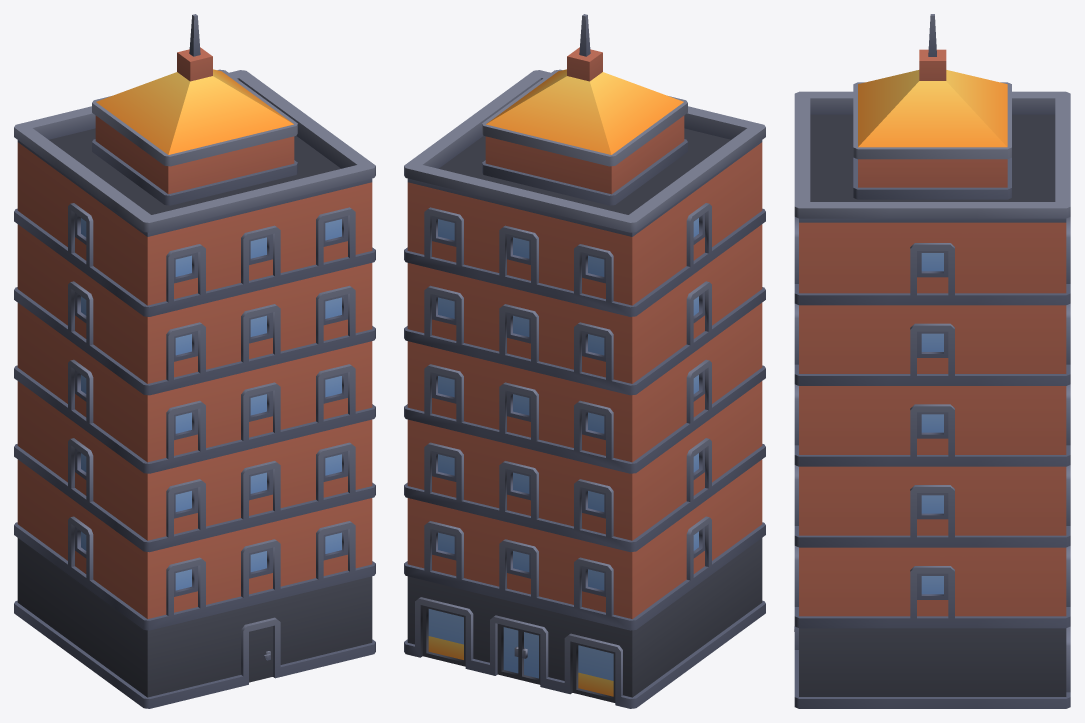
Rendered from building-m-b.glb.
The picture shows the model from 3 angles, left to right: view 1: azimuth 30°, elevation 25°; view 2: azimuth 150°, elevation 25°; view 3: azimuth 270°, elevation 25°; orthographic projection. The views are drawn at different scales.
Visible parts, largest first — view 1: building-m; view 2: building-m; view 3: building-m.
Part boxes in pixels (bbox=[...]): building-m: bbox=[14, 14, 375, 708]; building-m: bbox=[404, 14, 765, 708]; building-m: bbox=[794, 14, 1070, 708].
Size of the model in its own units: 1.24 by 3.15 by 1.24.
Materials: 1 (1 with a texture image).
